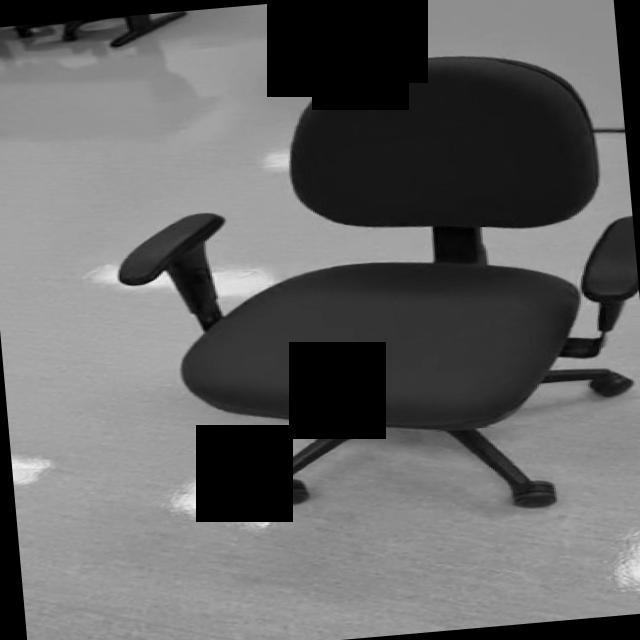chair: (98, 40, 640, 542)
